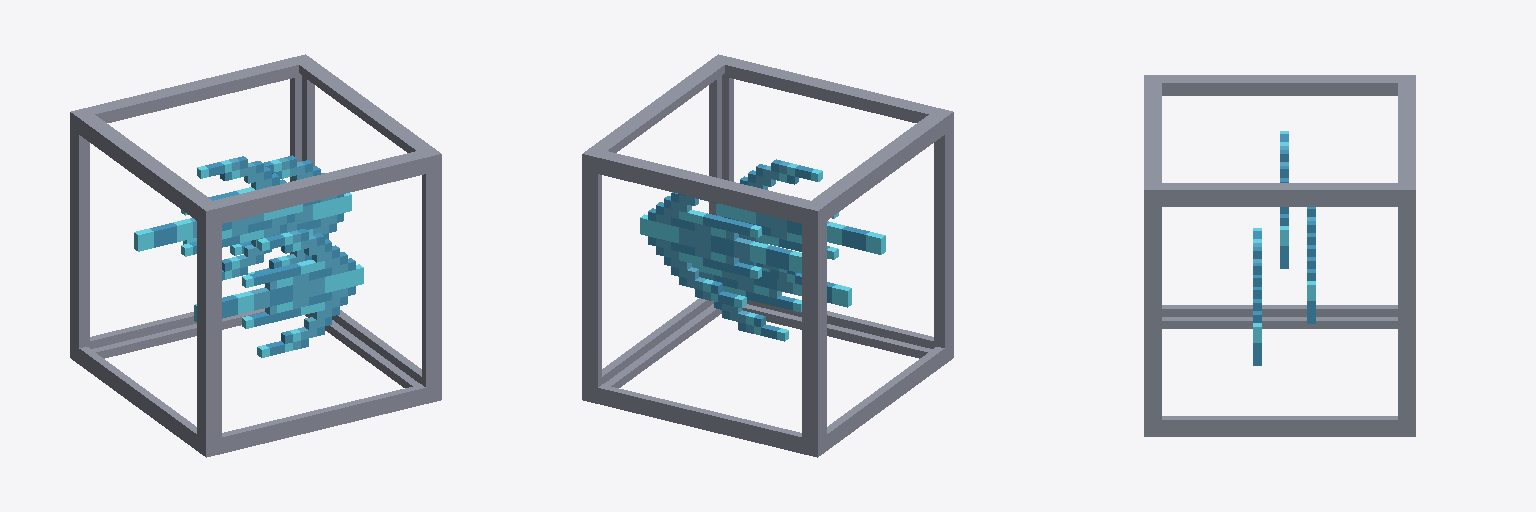
The picture shows the model from 3 angles: view 1: azimuth 30°, elevation 25°; view 2: azimuth 150°, elevation 25°; view 3: azimuth 270°, elevation 25°; orthographic projection.
Parts seen in each view (by area): view 1: object 1; view 2: object 1; view 3: object 1.
Part boxes in pixels (x1,y1,x2,y2): object 1: (70, 54, 441, 457); object 1: (582, 54, 953, 457); object 1: (1144, 75, 1415, 436).
Bounding box in the file's own units: 3 × 3 × 3.
1 materials, 1 textured.